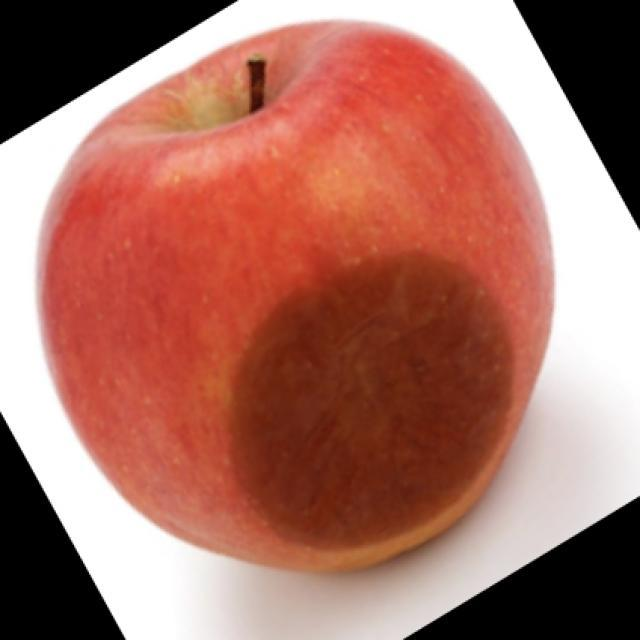Rotten: (56, 22, 542, 563)
